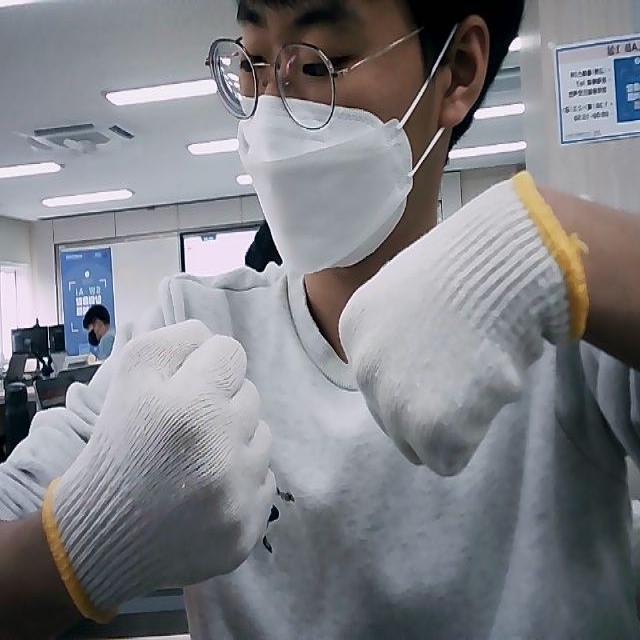gloves: (338, 172, 588, 478), (41, 318, 278, 618)
